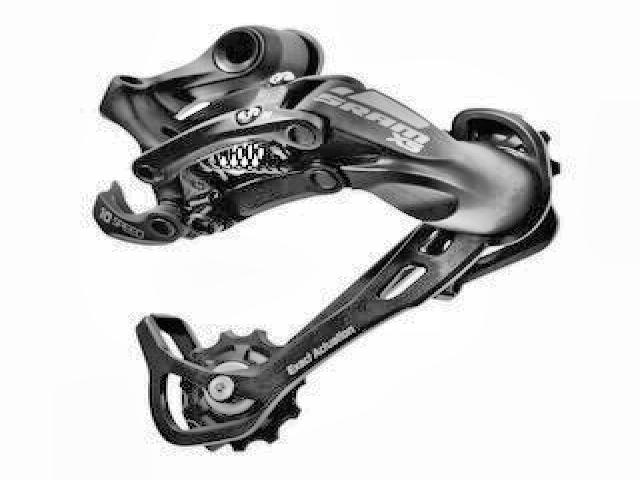rear_derailleur: (92, 24, 564, 459)
